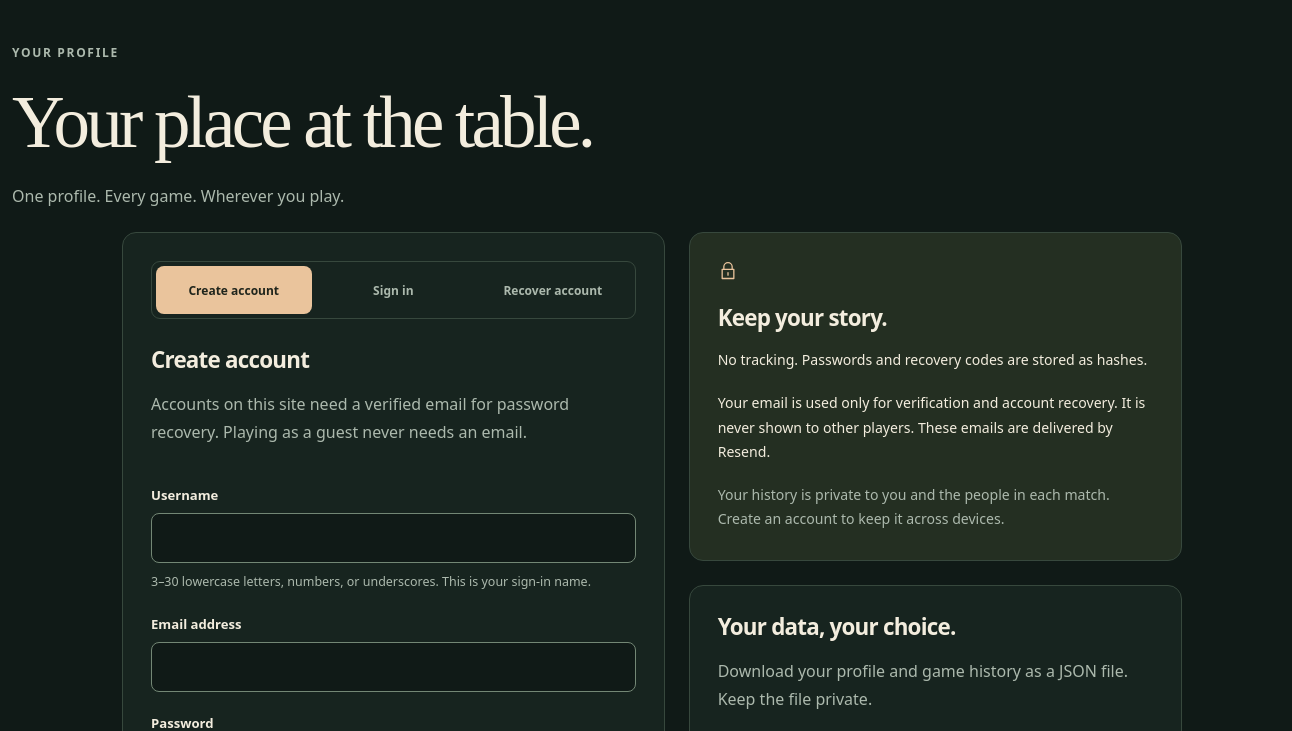
Scenario: offers email recovery first and keeps backup-code recovery available
The width and height of the screenshot is (1292, 731).
Later steps or results of the test are not shown.
Click the button "Recover account".
click(553, 290)  # box [475,266,631,314]
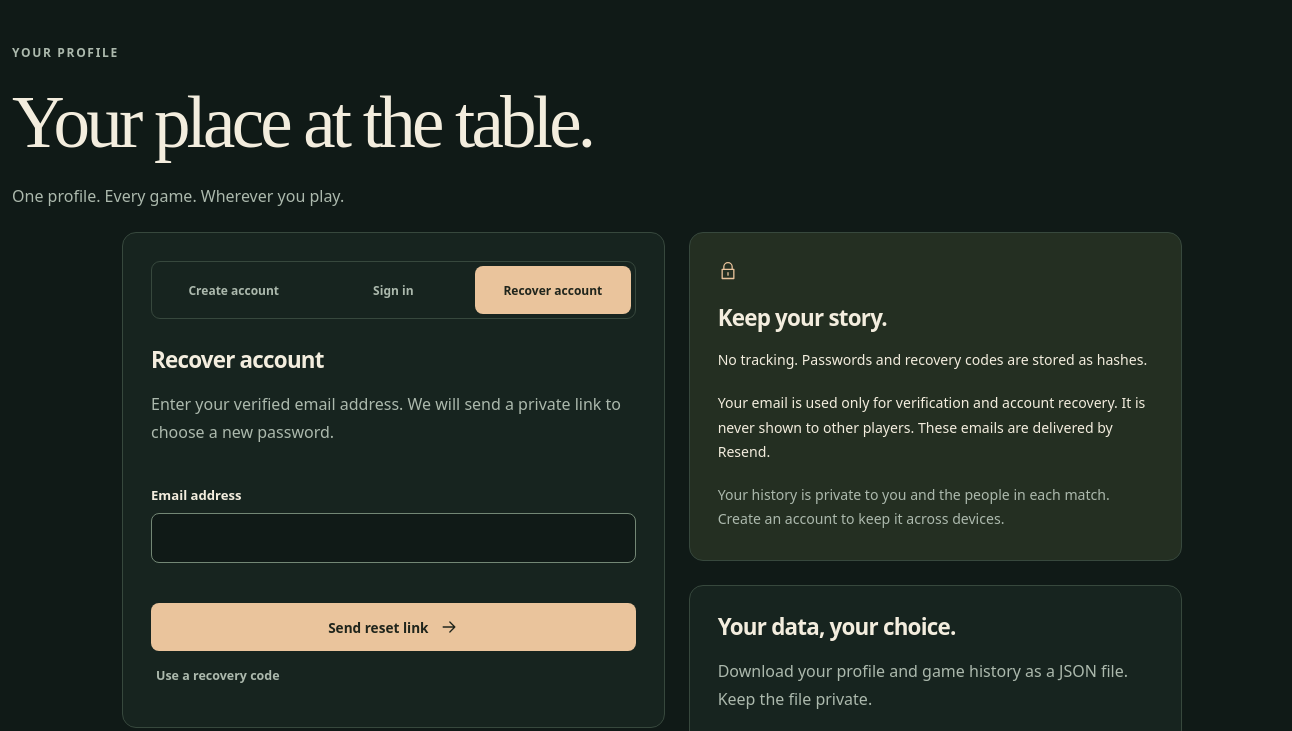
Type "aino@example.com" into the field labelled "Email address".
click(393, 538); type("aino@example.com")  # box [151,513,636,563]
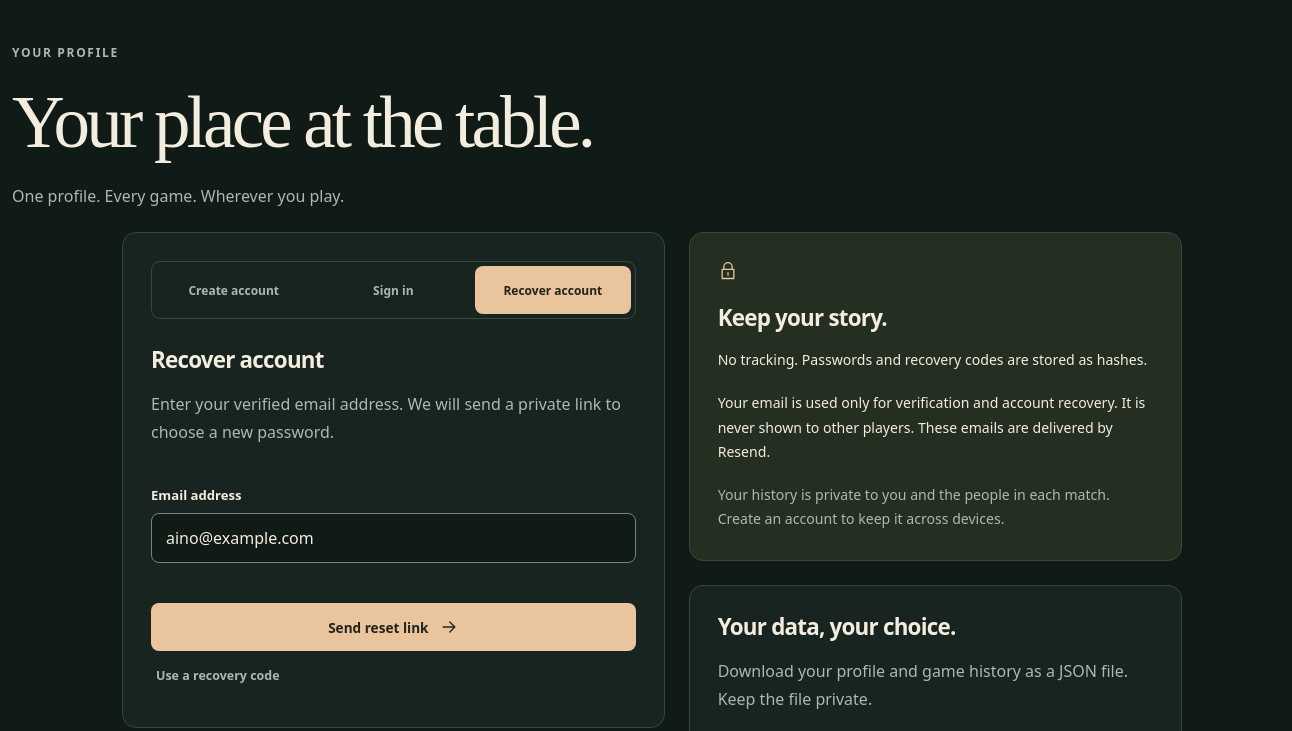
Click the button "Send reset link".
click(393, 627)  # box [151,603,636,651]
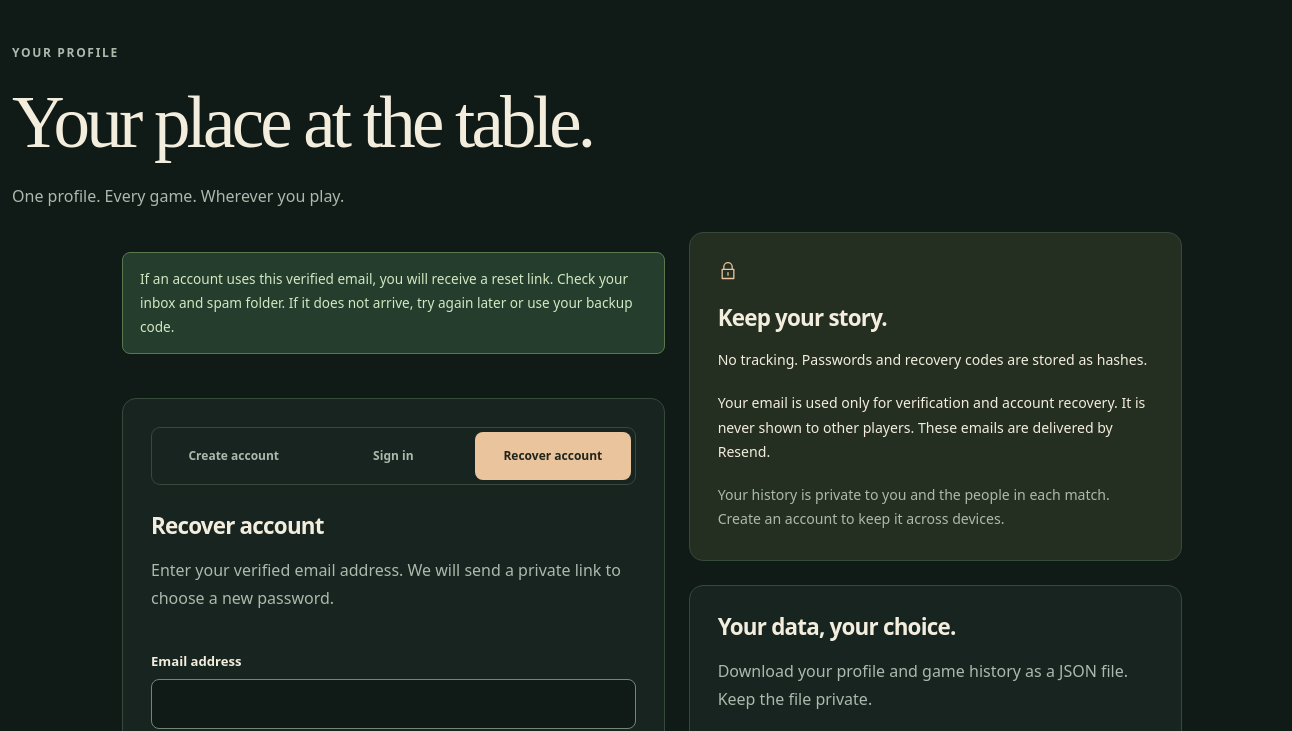
Check: the message shows "If an account uses this verified email", box [140,269,632,336]
